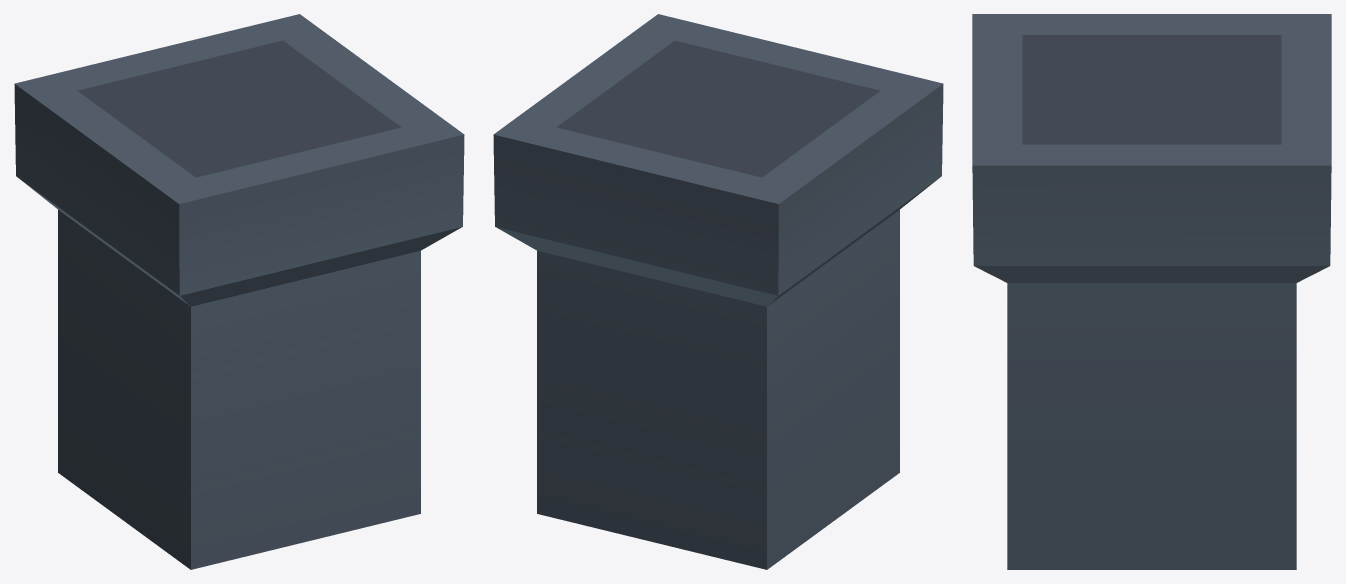
File: Chimney_2_A_2.glb
The picture shows the model from 3 angles, left to right: view 1: azimuth 30°, elevation 25°; view 2: azimuth 150°, elevation 25°; view 3: azimuth 270°, elevation 25°; orthographic projection. The views are drawn at different scales.
Visible parts, largest first — view 1: Chimney_2_A_2; view 2: Chimney_2_A_2; view 3: Chimney_2_A_2.
Boxes of the visible parts, x1,y1,x2,y2 form: Chimney_2_A_2: [14, 14, 464, 569]; Chimney_2_A_2: [493, 14, 943, 569]; Chimney_2_A_2: [972, 14, 1331, 569].
Bounding box in the file's own units: 0.6329 × 0.8145 × 0.6329.
1 material, 1 textured.
